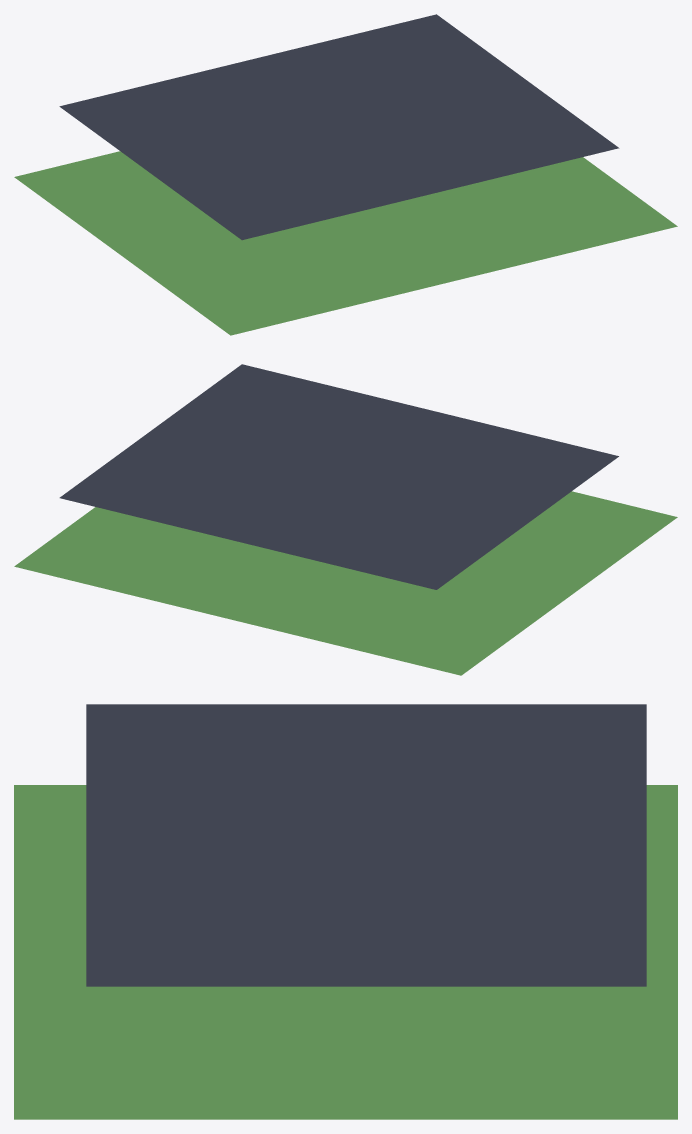
The model's file is Roof_& Grass Floor 1.fbx.
3 renders of one model, top to bottom at view 1: azimuth 30°, elevation 25°; view 2: azimuth 150°, elevation 25°; view 3: azimuth 270°, elevation 25°, orthographic. The views are drawn at different scales.
Parts seen in each view (by area): view 1: Roof, Grass.002; view 2: Roof, Grass.002; view 3: Roof, Grass.002.
Part boxes in pixels (x1,y1,x2,y2): Roof: (59,14,619,240); Grass.002: (14,151,677,335); Roof: (59,364,618,589); Grass.002: (14,491,677,675); Roof: (86,704,646,986); Grass.002: (14,785,677,1119).
Size of the model in its own units: 7741 by 1151 by 6494.
